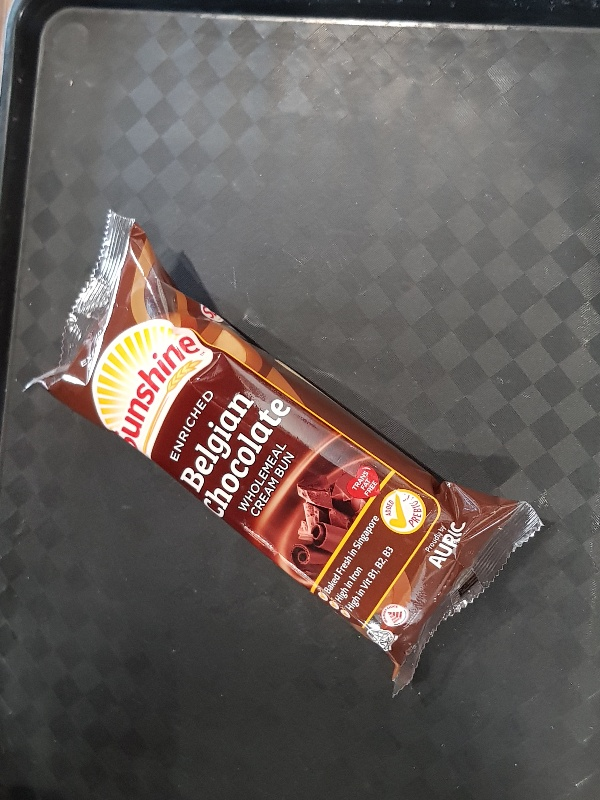Sunshine Belgium Chocolate Wholemeal Cream Bun: (19, 207, 547, 695)
